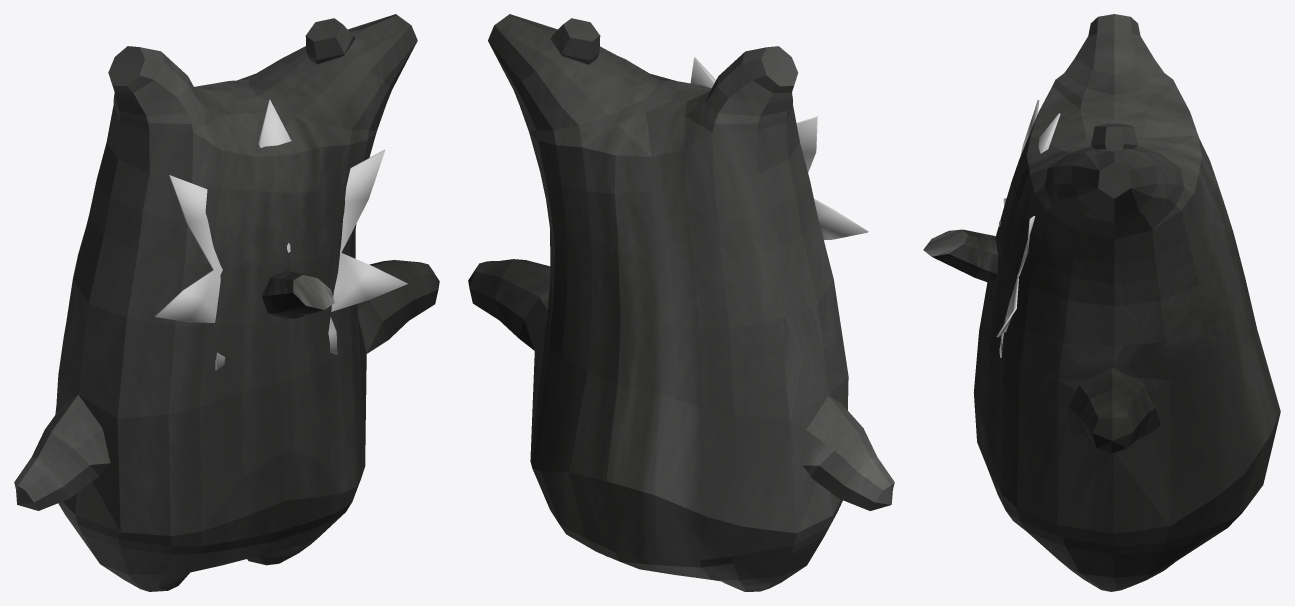
Rendered from frame_0049.obj.
3 renders of one model, left to right at view 1: azimuth 30°, elevation 25°; view 2: azimuth 150°, elevation 25°; view 3: azimuth 270°, elevation 25°, orthographic. The views are drawn at different scales.
Parts seen in each view (by area): view 1: korok, leaf, nose.003_柱体.011; view 2: korok, leaf; view 3: korok, nose.003_柱体.011, leaf.
Boxes of the visible parts, x1=… form: korok: x1=14, y1=14, x2=439, y2=591; leaf: x1=155, y1=99, x2=407, y2=369; nose.003_柱体.011: x1=261, y1=270, x2=334, y2=319; korok: x1=468, y1=14, x2=894, y2=591; leaf: x1=690, y1=57, x2=868, y2=240; korok: x1=973, y1=14, x2=1280, y2=591; nose.003_柱体.011: x1=923, y1=229, x2=998, y2=283; leaf: x1=996, y1=100, x2=1060, y2=357.
Size of the model in its own units: 1.75 by 2.16 by 1.36.
